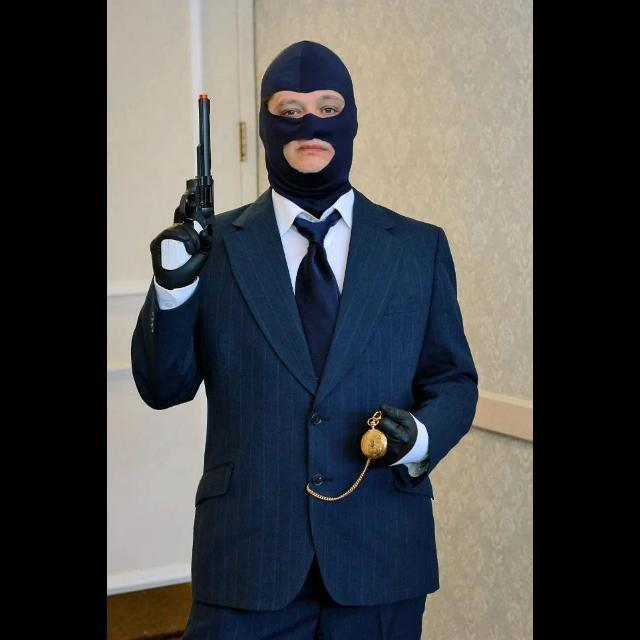criminal: (131, 39, 477, 640)
weapon: (173, 92, 216, 258)
